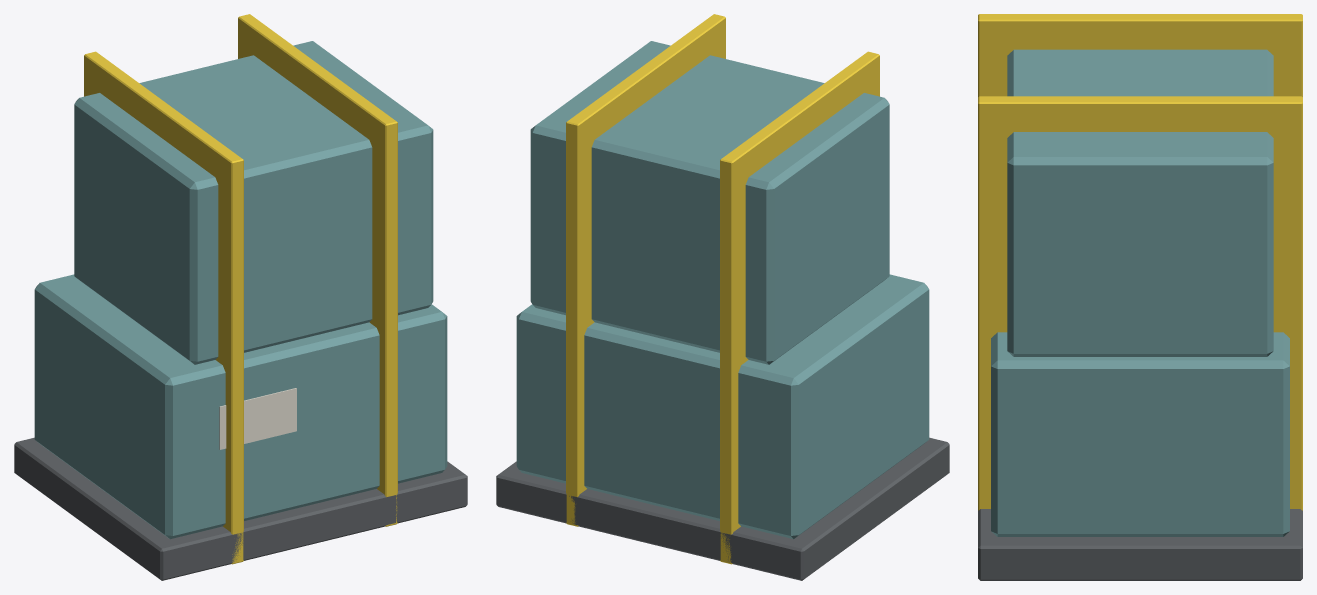
File: strapped_stack.glb
The picture shows the model from 3 angles, left to right: view 1: azimuth 30°, elevation 25°; view 2: azimuth 150°, elevation 25°; view 3: azimuth 270°, elevation 25°; orthographic projection. The views are drawn at different scales.
Visible parts, largest first — view 1: strapped_stack; view 2: strapped_stack; view 3: strapped_stack.
Boxes of the visible parts, bbox=[...] form: strapped_stack: bbox=[14, 14, 467, 580]; strapped_stack: bbox=[496, 14, 949, 580]; strapped_stack: bbox=[978, 14, 1302, 580].
Bounding box in the file's own units: 1.2 × 1.5 × 1.
